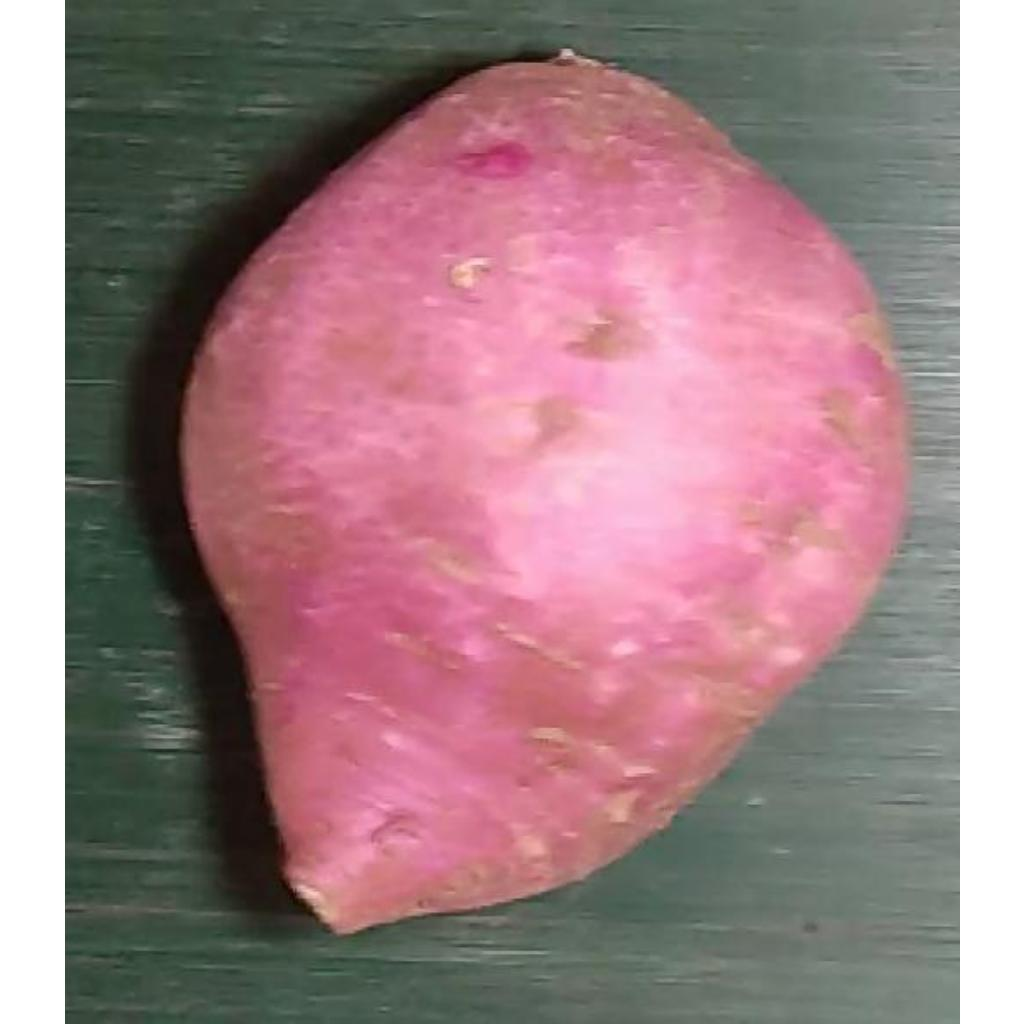Sweet Potato: (177, 51, 909, 940)
